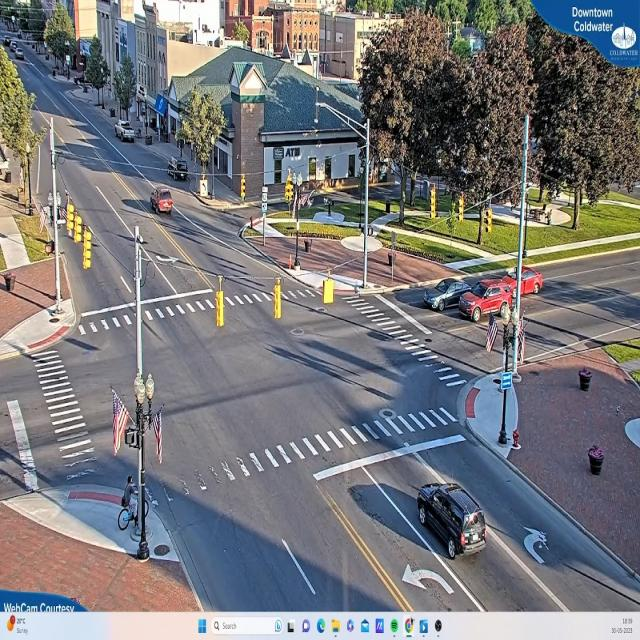car: (414, 486, 488, 564), (456, 278, 512, 322), (422, 276, 464, 317), (510, 264, 546, 300), (152, 186, 175, 214), (165, 157, 189, 180), (116, 124, 136, 142)
